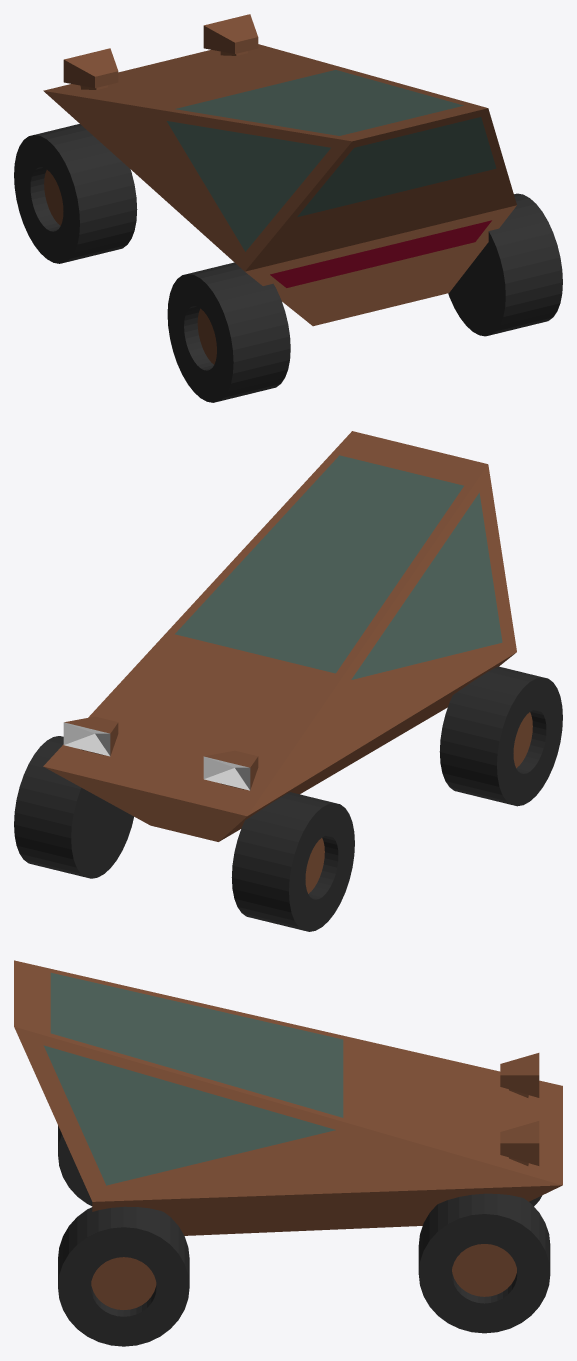
Rendered from StarterCar.fbx.
The picture shows the model from 3 angles, top to bottom: view 1: azimuth 30°, elevation 25°; view 2: azimuth 150°, elevation 25°; view 3: azimuth 270°, elevation 25°; orthographic projection.
Visible parts, largest first — view 1: Body, LeftRearWheel, LeftFrontWheel, RightRearWheel; view 2: Body, LeftRearWheel, LeftFrontWheel, RightFrontWheel; view 3: Body, RightRearWheel, RightFrontWheel, LeftRearWheel.
Part boxes in pixels (left/top/right/bottom): Body: left=43, top=14, right=516, bottom=326; LeftRearWheel: left=167, top=262, right=290, bottom=402; LeftFrontWheel: left=14, top=124, right=137, bottom=263; RightRearWheel: left=448, top=193, right=562, bottom=336; Body: left=43, top=431, right=516, bottom=841; LeftRearWheel: left=439, top=666, right=562, bottom=806; LeftFrontWheel: left=231, top=792, right=354, bottom=931; RightFrontWheel: left=14, top=736, right=133, bottom=878; Body: left=14, top=960, right=562, bottom=1235; RightRearWheel: left=58, top=1206, right=189, bottom=1346; RightFrontWheel: left=418, top=1193, right=550, bottom=1333; LeftRearWheel: left=58, top=1125, right=92, bottom=1205.
Size of the model in its own units: 242 by 192 by 350.
